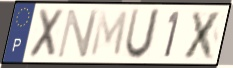1: (163, 10, 181, 60)
M: (88, 9, 130, 59)
N: (55, 8, 101, 60)
U: (122, 7, 163, 62)
X: (181, 9, 225, 61), (26, 7, 67, 61)
